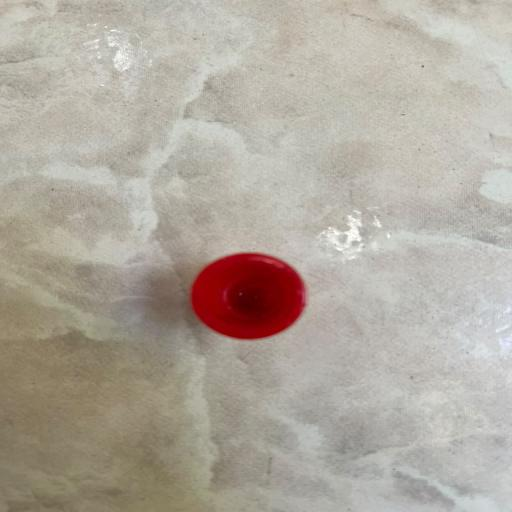HDPE: (165, 241, 345, 374)
